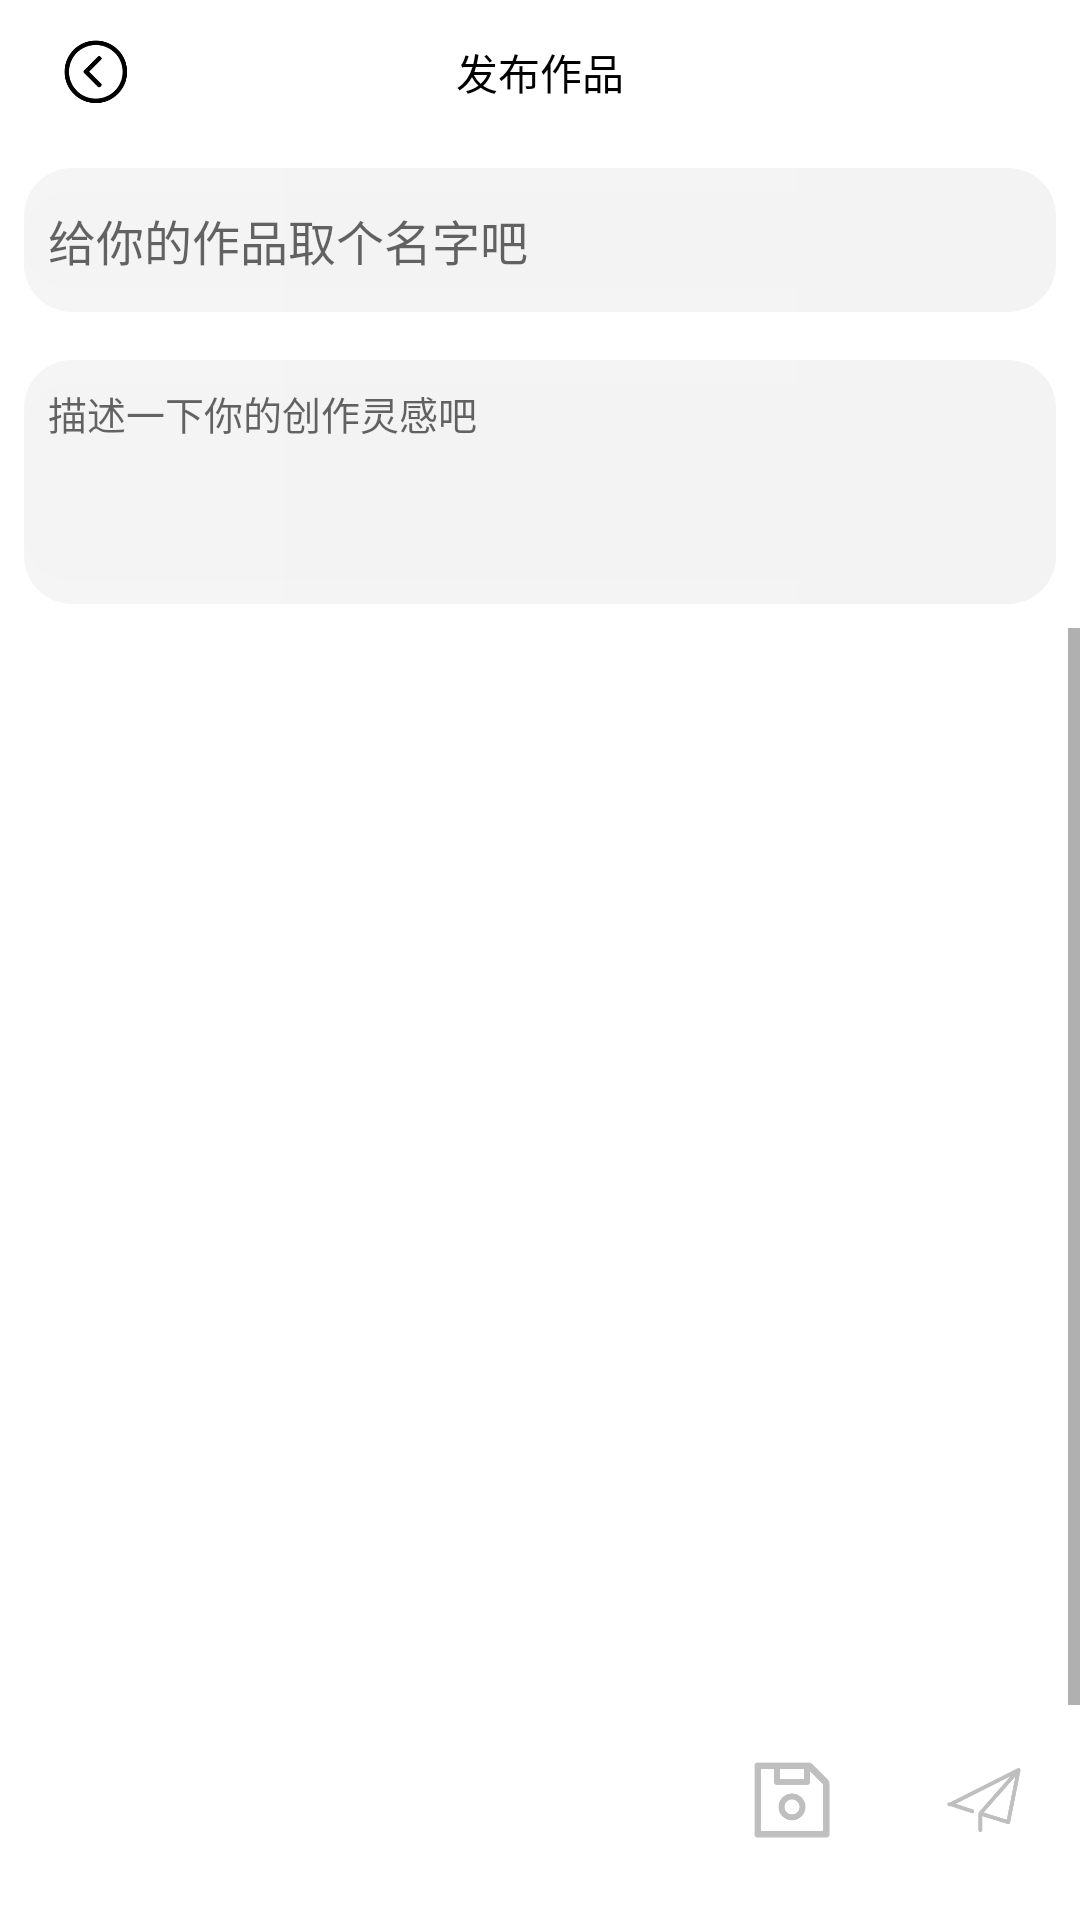

Locate icon controls on the screen. Image size 1080 × 1920, boxes as rect(x1, y1, x2, y2).
back: rect(64, 40, 127, 103)
fly: rect(947, 1768, 1021, 1832)
save: rect(755, 1763, 830, 1838)
